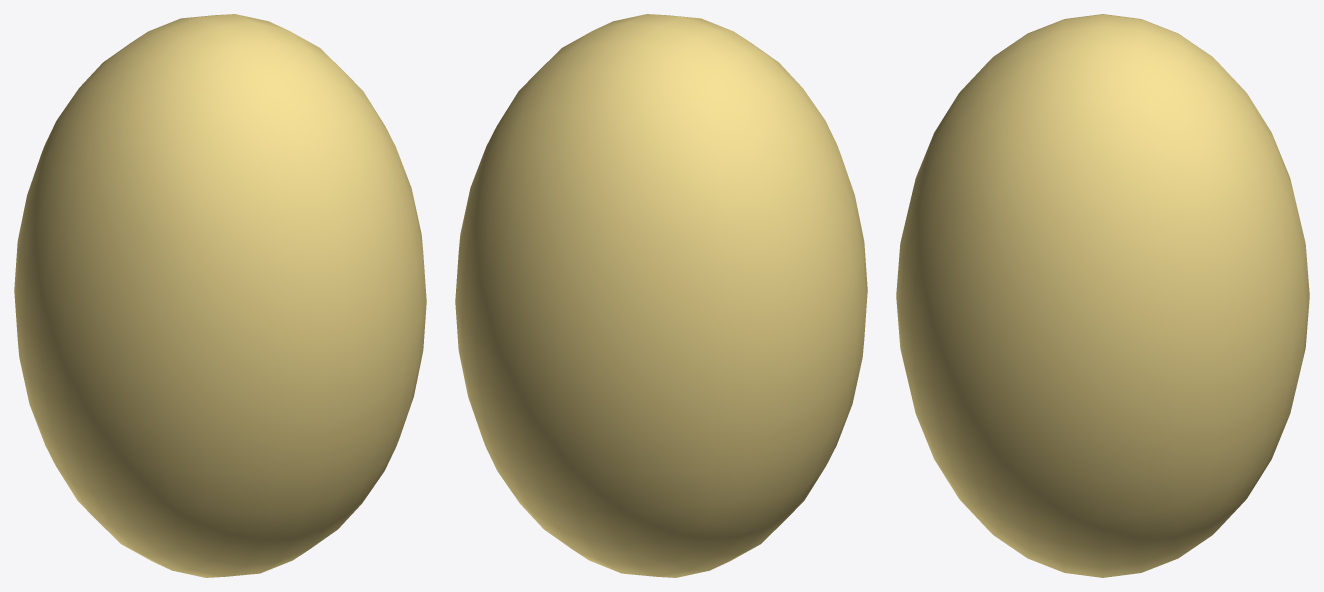
3 views of the same model, side by side, from view 1: azimuth 30°, elevation 25°; view 2: azimuth 150°, elevation 25°; view 3: azimuth 270°, elevation 25° (orthographic).
Parts seen in each view (by area): view 1: ZA_d22efbdcc9b54975; view 2: ZA_d22efbdcc9b54975; view 3: ZA_d22efbdcc9b54975.
Boxes of the visible parts, x1,y1,x2,y2 form: ZA_d22efbdcc9b54975: (14, 14, 426, 577); ZA_d22efbdcc9b54975: (455, 14, 867, 577); ZA_d22efbdcc9b54975: (896, 14, 1309, 577).
Size of the model in its own units: 0.00112 by 0.00162 by 0.00112.
